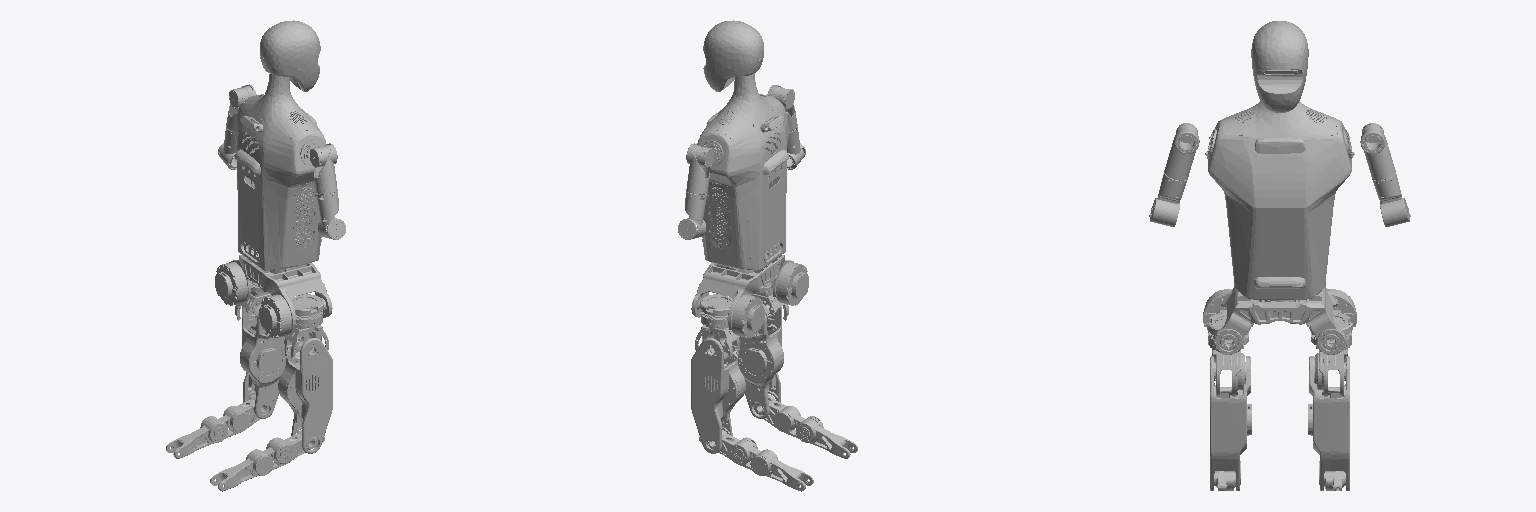
robot.urdf — humanoid:
<?xml version="1.0" encoding="utf-8"?>
<robot name="humanoid">
  <mujoco>
        <compiler 
        meshdir="../meshes/" 
        balanceinertia="true" 
        discardvisual="false" />
  </mujoco>
  <link name="pelvis">
    <inertial>
      <origin xyz="-0.047395 0.00 -0.046657" rpy="0 0 0"/>
      <mass value="5.587228"/>
      <inertia ixx="0.080339" ixy="-0.0000080" ixz="0.006666" iyy="0.029082" iyz="-0.000004" izz="0.091570"/>
    </inertial>
    <visual>
      <origin xyz="0 0 0.013" rpy="0 0 0"/>
      <geometry>
        <mesh filename="../meshes/pelvis.STL"/>
      </geometry>
      <material name="">
        <color rgba="0.752941176470588 0.752941176470588 0.752941176470588 1"/>
      </material>
    </visual>
    <collision>
      <origin xyz="0 0 0.01" rpy="0 0 0"/>
      <geometry>
        <cylinder radius="0.08" length="0.05"/></geometry>
    </collision>
  </link>
  <link name="hip_roll_l_link">
    <inertial>
      <origin xyz="-0.00048 0.00336 -0.00372" rpy="0 0 0"/>
      <mass value="1.12809"/>
      <inertia ixx="0.0058" ixy="0.00000" ixz="0.00000" iyy="0.0093" iyz="-0.00011" izz="0.0108"/>
    </inertial>
    <visual>
      <origin xyz="0 0 0" rpy="0 0 0"/>
      <geometry>
        <mesh filename="../meshes/hip_roll_l_link.STL"/>
      </geometry>
      <material name="">
        <color rgba="0.752941176470588 0.752941176470588 0.752941176470588 1"/>
      </material>
    </visual>
    <collision>
      <origin xyz="-0.087 0 0.004" rpy="0 1.57 0"/>
      <geometry>
        <cylinder radius="0.06" length="0.03"/></geometry>
    </collision>
  </link>
  <joint name="hip_roll_l_joint" type="revolute">
    <origin xyz="0 0.13 -0.0659230484541305" rpy="0 0 0"/>
    <parent link="pelvis"/>
    <child link="hip_roll_l_link"/>
    <axis xyz="1 0 0"/>
    <limit effort="150" lower="-0.97" upper="0.97" velocity="12"/>
  </joint>
  <link name="hip_yaw_l_link">
    <inertial>
      <origin xyz="0.00104 0.00351 0.00968" rpy="0 0 0"/>
      <mass value="1.91605"/>
      <inertia ixx="0.00237" ixy="-0.00005" ixz="-0.00001" iyy="0.00271" iyz="-0.00005" izz="0.00152"/>
    </inertial>
    <visual>
      <origin xyz="0 0 0" rpy="0 0 0"/>
      <geometry>
        <mesh filename="../meshes/hip_yaw_l_link.STL"/>
      </geometry>
      <material name="">
        <color rgba="0.752941176470588 0.752941176470588 0.752941176470588 1"/>
      </material>
    </visual>
    <collision>
      <origin xyz="0 0 0.13" rpy="0 0 0"/>
      <geometry>
        <cylinder radius="0.05" length="0.02"/></geometry>
    </collision>
  </link>
  <joint name="hip_yaw_l_joint" type="revolute">
    <origin xyz="0 0 -0.116" rpy="0 0 0"/>
    <parent link="hip_roll_l_link"/>
    <child link="hip_yaw_l_link"/>
    <axis xyz="0 0 1"/>
    <limit effort="90" lower="-1.0472" upper="1.0472" velocity="14"/>
  </joint>
  <link name="hip_pitch_l_link">
    <inertial>
      <origin xyz="0.00823 -0.00853 -0.13551" rpy="0 0 0"/>
      <mass value="3.37311"/>
      <inertia ixx="0.02261" ixy="0.00036" ixz="-0.00020" iyy="0.02274" iyz="-0.00132" izz="0.00637"/>
    </inertial>
    <visual>
      <origin xyz="0 0 0" rpy="0 0 0"/>
      <geometry>
        <mesh filename="../meshes/hip_pitch_l_link.STL"/>
      </geometry>
      <material name="">
        <color rgba="0.752941176470588 0.752941176470588 0.752941176470588 1"/>
      </material>
    </visual>
    <collision>
      <origin xyz="0 0 -0.10" rpy="0 0 0"/>
      <geometry>
        <cylinder radius="0.057" length="0.3"/></geometry>
    </collision>
  </link>
  <joint name="hip_pitch_l_joint" type="revolute">
    <origin xyz="0 0 0" rpy="0 0 0"/>
    <parent link="hip_yaw_l_link"/>
    <child link="hip_pitch_l_link"/>
    <axis xyz="0 1 0"/>
    <limit effort="150" lower="-1.57" upper="0.5236" velocity="12"/>
  </joint>
  <link name="knee_pitch_l_link">
    <inertial>
      <origin xyz="0.00228 0.00293 -0.12066" rpy="0 0 0"/>
      <mass value="2.28832"/>
      <inertia ixx="0.02033" ixy="0.00004" ixz="0.00049" iyy="0.02013" iyz="0.00089" izz="0.00090"/>
    </inertial>
    <visual>
      <origin xyz="0 0 0" rpy="0 0 0"/>
      <geometry>
        <mesh filename="../meshes/knee_pitch_l_link.STL"/>
      </geometry>
      <material name="">
        <color rgba="0.752941176470588 0.752941176470588 0.752941176470588 1"/>
      </material>
    </visual>
    <collision>
      <origin xyz="0 0 -0.14" rpy="0 0 0"/>
      <geometry>
        <cylinder radius="0.03" length="0.2"/></geometry>
    </collision>
  </link>
  <joint name="knee_pitch_l_joint" type="revolute">
    <origin xyz="0 0 -0.3" rpy="0 0 0"/>
    <parent link="hip_pitch_l_link"/>
    <child link="knee_pitch_l_link"/>
    <axis xyz="0 1 0"/>
    <limit effort="150" lower="0.1745" upper="2.443" velocity="12"/>
  </joint>
  <link name="ankle_pitch_l_link">
    <inertial>
      <origin xyz="0.00027 0.00 0.00" rpy="0 0 0"/>
      <mass value="0.15163"/>
      <inertia ixx="0.003" ixy="0.00000" ixz="0.00000" iyy="0.003" iyz="0.00000" izz="0.006"/>
    </inertial>
    <visual>
      <origin xyz="0 0 0" rpy="0 0 0"/>
      <geometry>
        <mesh filename="../meshes/ankle_pitch_l_link.STL"/>
      </geometry>
      <material name="">
        <color rgba="0.752941176470588 0.752941176470588 0.752941176470588 1"/>
      </material>
    </visual>
    <collision>
      <origin xyz="0 0 0" rpy="0 1.57 0"/>
      <geometry>
        <cylinder radius="0.009" length="0.02"/></geometry>
    </collision>
  </link>
  <joint name="ankle_pitch_l_joint" type="revolute">
    <origin xyz="0 0 -0.3" rpy="0 0 0"/>
    <parent link="knee_pitch_l_link"/>
    <child link="ankle_pitch_l_link"/>
    <axis xyz="0 1 0"/>
    <limit effort="60" lower="-1.22" upper="0.5236" velocity="7.8"/>
  </joint>
  <link name="ankle_roll_l_link">
    <inertial>
      <origin xyz="0.00499834596807007 3.85656999529749E-07 -0.0269363007684662" rpy="0 0 0"/>
      <mass value="0.658333536719065"/>
      <inertia

        ixx="0.000513570989980863"

        ixy="-4.87505487499137E-09"

        ixz="0.000203238044973804"
        iyy="0.00217612928759338"

        iyz="7.25924990022402E-10"
        izz="0.00236715733639348" />
    </inertial>
    <visual>
      <origin xyz="0 0 0" rpy="0 0 0"/>
      <geometry>
        <mesh filename="../meshes/ankle_roll_l_link.STL"/>
      </geometry>
      <material name="">
        <color rgba="0.752941176470588 0.752941176470588 0.752941176470588 1"/>
      </material>
    </visual>
    <collision>
      <origin xyz="0 0 0" rpy="0 0 0"/>
      <geometry>
      <mesh
        filename="../meshes/ankle_roll_l_link.STL" />
      </geometry>
    </collision>
  </link>
  <joint name="ankle_roll_l_joint" type="revolute">
    <origin xyz="0 0 0" rpy="0 0 0"/>
    <parent link="ankle_pitch_l_link"/>
    <child link="ankle_roll_l_link"/>
    <axis xyz="1 0 0"/>
    <limit effort="30" lower="-0.4363" upper="0.4363" velocity="7.8"/>
  </joint>
  <link name="hip_roll_r_link">
    <inertial>
      <origin xyz="-0.00048 -0.00336 -0.00372" rpy="0 0 0"/>
      <mass value="1.12809"/>
      <inertia ixx="0.0058" ixy="0.00000" ixz="0.00000" iyy="0.0093" iyz="0.00011" izz="0.0108"/>
    </inertial>
    <visual>
      <origin xyz="0 0 0" rpy="0 0 0"/>
      <geometry>
        <mesh filename="../meshes/hip_roll_r_link.STL"/>
      </geometry>
      <material name="">
        <color rgba="0.752941176470588 0.752941176470588 0.752941176470588 1"/>
      </material>
    </visual>
    <collision>
      <origin xyz="-0.087 0 0.004" rpy="0 1.57 0"/>
      <geometry>
        <cylinder radius="0.06" length="0.03"/></geometry>
    </collision>
  </link>
  <joint name="hip_roll_r_joint" type="revolute">
    <origin xyz="0 -0.13 -0.0659230484541306" rpy="0 0 0"/>
    <parent link="pelvis"/>
    <child link="hip_roll_r_link"/>
    <axis xyz="1 0 0"/>
    <limit effort="150" lower="-0.97" upper="0.97" velocity="12"/>
  </joint>
  <link name="hip_yaw_r_link">
    <inertial>
      <origin xyz="0.00104 -0.00351 0.00968" rpy="0 0 0"/>
      <mass value="1.91605"/>
      <inertia ixx="0.00237" ixy="0.00005" ixz="-0.00001" iyy="0.00271" iyz="0.00005" izz="0.00152"/>
    </inertial>
    <visual>
      <origin xyz="0 0 0" rpy="0 0 0"/>
      <geometry>
        <mesh filename="../meshes/hip_yaw_r_link.STL"/>
      </geometry>
      <material name="">
        <color rgba="0.752941176470588 0.752941176470588 0.752941176470588 1"/>
      </material>
    </visual>
    <collision>
      <origin xyz="0 0 0.13" rpy="0 0 0"/>
      <geometry>
        <cylinder radius="0.05" length="0.02"/></geometry>
    </collision>
  </link>
  <joint name="hip_yaw_r_joint" type="revolute">
    <origin xyz="0 0 -0.116" rpy="0 0 0"/>
    <parent link="hip_roll_r_link"/>
    <child link="hip_yaw_r_link"/>
    <axis xyz="0 0 1"/>
    <limit effort="90" lower="-1.0472" upper="1.0472" velocity="14"/>
  </joint>
  <link name="hip_pitch_r_link">
    <inertial>
      <origin xyz="0.00823 0.00853 -0.13551" rpy="0 0 0"/>
      <mass value="3.37311"/>
      <inertia ixx="0.02261" ixy="-0.00036" ixz="-0.00020" iyy="0.02274" iyz="0.00132" izz="0.00637"/>
    </inertial>
    <visual>
      <origin xyz="0 0 0" rpy="0 0 0"/>
      <geometry>
        <mesh filename="../meshes/hip_pitch_r_link.STL"/>
      </geometry>
      <material name="">
        <color rgba="0.752941176470588 0.752941176470588 0.752941176470588 1"/>
      </material>
    </visual>
    <collision>
      <origin xyz="0 0 -0.10" rpy="0 0 0"/>
      <geometry>
        <cylinder radius="0.057" length="0.3"/></geometry>
    </collision>
  </link>
  <joint name="hip_pitch_r_joint" type="revolute">
    <origin xyz="0 0 0" rpy="0 0 0"/>
    <parent link="hip_yaw_r_link"/>
    <child link="hip_pitch_r_link"/>
    <axis xyz="0 1 0"/>
    <limit effort="150" lower="-1.57" upper="0.5236" velocity="12"/>
  </joint>
  <link name="knee_pitch_r_link">
    <inertial>
      <origin xyz="0.00228 -0.00293 -0.12066" rpy="0 0 0"/>
      <mass value="2.28832"/>
      <inertia ixx="0.02033" ixy="-0.00004" ixz="0.00049" iyy="0.02013" iyz="-0.00089" izz="0.00090"/>
    </inertial>
    <visual>
      <origin xyz="0 0 0" rpy="0 0 0"/>
      <geometry>
        <mesh filename="../meshes/knee_pitch_r_link.STL"/>
      </geometry>
      <material name="">
        <color rgba="0.752941176470588 0.752941176470588 0.752941176470588 1"/>
      </material>
    </visual>
    <collision>
      <origin xyz="0 0 -0.14" rpy="0 0 0"/>
      <geometry>
        <cylinder radius="0.03" length="0.2"/></geometry>
    </collision>
  </link>
  <joint name="knee_pitch_r_joint" type="revolute">
    <origin xyz="0 0 -0.3" rpy="0 0 0"/>
    <parent link="hip_pitch_r_link"/>
    <child link="knee_pitch_r_link"/>
    <axis xyz="0 1 0"/>
    <limit effort="150" lower="0.1745" upper="2.443" velocity="12"/>
  </joint>
  <link name="ankle_pitch_r_link">
    <inertial>
      <origin xyz="0.00027 0.00 0.00" rpy="0 0 0"/>
      <mass value="0.15163"/>
      <inertia ixx="0.003" ixy="0.00000" ixz="0.00000" iyy="0.003" iyz="0.00000" izz="0.006"/>
    </inertial>
    <visual>
      <origin xyz="0 0 0" rpy="0 0 0"/>
      <geometry>
        <mesh filename="../meshes/ankle_pitch_r_link.STL"/>
      </geometry>
      <material name="">
        <color rgba="0.752941176470588 0.752941176470588 0.752941176470588 1"/>
      </material>
    </visual>
    <collision>
      <origin xyz="0 0 0" rpy="0 1.57 0"/>
      <geometry>
        <cylinder radius="0.009" length="0.02"/></geometry>
    </collision>
  </link>
  <joint name="ankle_pitch_r_joint" type="revolute">
    <origin xyz="0 0 -0.3" rpy="0 0 0"/>
    <parent link="knee_pitch_r_link"/>
    <child link="ankle_pitch_r_link"/>
    <axis xyz="0 1 0"/>
    <limit effort="60" lower="-1.22" upper="0.5236" velocity="7.8"/>
  </joint>
  <link name="ankle_roll_r_link">
    <inertial>
      <origin xyz="0.00499834596807082 3.85656999640771E-07 -0.0269363007684669" rpy="0 0 0"/>
      <mass value="0.658333536719064"/>
      <inertia ixx="0.000513570989980871" ixy="-4.8750548686116E-09" ixz="0.000203238044973807" iyy="0.00217612928759339" iyz="7.25924989997628E-10" izz="0.00236715733639349"/>
    </inertial>
    <visual>
      <origin xyz="0 0 0" rpy="0 0 0"/>
      <geometry>
        <mesh filename="../meshes/ankle_roll_r_link.STL"/>
      </geometry>
      <material name="">
        <color rgba="0.752941176470588 0.752941176470588 0.752941176470588 1"/>
      </material>
    </visual>
    <collision>
      <origin xyz="0 0 0" rpy="0 0 0"/>
      <geometry>
      <mesh
        filename="../meshes/ankle_roll_r_link.STL" />
      </geometry>
    </collision>
  </link>
  <joint name="ankle_roll_r_joint" type="revolute">
    <origin xyz="0 0 0" rpy="0 0 0"/>
    <parent link="ankle_pitch_r_link"/>
    <child link="ankle_roll_r_link"/>
    <axis xyz="1 0 0"/>
    <limit effort="30" lower="-0.4363" upper="0.4363" velocity="7.8"/>
  </joint>
  <link name="waist_link">
    <inertial>
      <origin xyz="-0.005467 -0.000016 0.302017" rpy="0 0 0"/>
      <mass value="13.8"/>
      <inertia ixx="0.527626" ixy="0.000095" ixz="-0.001701" iyy="0.471407" iyz="-0.000322" izz="0.111941"/>
    </inertial>
    <visual>
      <origin xyz="0 0 0" rpy="0 0 0"/>
      <geometry>
        <mesh filename="../meshes/waist_link.STL"/>
      </geometry>
      <material name="">
        <color rgba="0.752941176470588 0.752941176470588 0.752941176470588 1"/>
      </material>
    </visual>
    <collision>
      <origin xyz="0 0 0.3" rpy="0 0 0"/>
      <geometry>
        <cylinder radius="0.15" length="0.4"/></geometry>
    </collision>
  </link>
  <joint name="waist_joint" type="revolute">
    <origin xyz="0 0 0.0192" rpy="0 0 0"/>
    <parent link="pelvis"/>
    <child link="waist_link"/>
    <axis xyz="0 0 1"/>
    <limit effort="1000" lower="-3.14" upper="3.14" velocity="100"/>
  </joint>
  <link name="shoulder_pitch_l_link">
    <inertial>
      <origin xyz="0.000988 0.030202 0.000417" rpy="0 0 0"/>
      <mass value="0.163757"/>
      <inertia ixx="0.000156" ixy="0.000005" ixz="0.000000" iyy="0.000183" iyz="0.000000" izz="0.000224"/>
    </inertial>
    <visual>
      <origin xyz="0 0 0" rpy="0 0 0"/>
      <geometry>
        <mesh filename="../meshes/shoulder_pitch_l_link.STL"/>
      </geometry>
      <material name="">
        <color rgba="0.752941176470588 0.752941176470588 0.752941176470588 1"/>
      </material>
    </visual>
    <collision>
      <origin xyz="0 -0.04 0" rpy="1.57 0 0"/>
      <geometry>
        <cylinder radius="0.03" length="0.08"/></geometry>
    </collision>
  </link>
  <joint name="shoulder_pitch_l_joint" type="revolute">
    <origin xyz="0 0.17581 0.43652" rpy="0.2618 0 0"/>
    <parent link="waist_link"/>
    <child link="shoulder_pitch_l_link"/>
    <axis xyz="0 1 0"/>
    <limit effort="36" lower="-3.14" upper="0.97" velocity="7.8"/>
  </joint>
  <link name="shoulder_roll_l_link">
    <inertial>
      <origin xyz="0.004522 -0.000011 -0.042682" rpy="0 0 0"/>
      <mass value="0.933844"/>
      <inertia ixx="0.001705" ixy="0.00000" ixz="0.000170" iyy="0.00172" iyz="0.000001" izz="0.000234"/>
    </inertial>
    <visual>
      <origin xyz="0 0 0" rpy="0 0 0"/>
      <geometry>
        <mesh filename="../meshes/shoulder_roll_l_link.STL"/>
      </geometry>
      <material name="">
        <color rgba="0.752941176470588 0.752941176470588 0.752941176470588 1"/>
      </material>
    </visual>
    <collision>
      <origin xyz="0 0 -0.04" rpy="0 0 0"/>
      <geometry>
        <cylinder radius="0.03" length="0.10"/></geometry>
    </collision>
  </link>
  <joint name="shoulder_roll_l_joint" type="revolute">
    <origin xyz="-0.0025 0.062 0" rpy="0 0 0"/>
    <parent link="shoulder_pitch_l_link"/>
    <child link="shoulder_roll_l_link"/>
    <axis xyz="1 0 0"/>
    <limit effort="36" lower="-0.08" upper="3.49" velocity="7.8"/>
  </joint>
  <link name="shoulder_yaw_l_link">
    <inertial>
      <origin xyz="-0.000044 -0.002833 -0.092643" rpy="0 0 0"/>
      <mass value="0.610091"/>
      <inertia ixx="0.000943" ixy="0.000001" ixz="0.000001" iyy="0.000918" iyz="0.000030" izz="0.000220"/>
    </inertial>
    <visual>
      <origin xyz="0 0 0" rpy="0 0 0"/>
      <geometry>
        <mesh filename="../meshes/shoulder_yaw_l_link.STL"/>
      </geometry>
      <material name="">
        <color rgba="0.752941176470588 0.752941176470588 0.752941176470588 1"/>
      </material>
    </visual>
    <collision>
      <origin xyz="0 0 -0.06" rpy="0 0 0"/>
      <geometry>
        <cylinder radius="0.03" length="0.07"/></geometry>
    </collision>
  </link>
  <joint name="shoulder_yaw_l_joint" type="revolute">
    <origin xyz="0 0 -0.107" rpy="0 0 0"/>
    <parent link="shoulder_roll_l_link"/>
    <child link="shoulder_yaw_l_link"/>
    <axis xyz="0 0 1"/>
    <limit effort="36" lower="-2.96" upper="2.96" velocity="7.8"/>
  </joint>
  <link name="elbow_l_link">
    <inertial>
      <origin xyz="-0.000267 -0.001013 -0.145930" rpy="0 0 0"/>
      <mass value="0.341159"/>
      <inertia ixx="0.005196" ixy="0.0" ixz="0.000004" iyy="0.005151" iyz="-0.000052" izz="0.000220"/>
    </inertial>
    <visual>
      <origin xyz="0 0 0" rpy="0 0 0"/>
      <geometry>
        <mesh filename="../meshes/elbow_l_link.STL"/>
      </geometry>
      <material name="">
        <color rgba="0.898039215686275 0.917647058823529 0.929411764705882 1"/>
      </material>
    </visual>
    <collision>
      <origin xyz="0 0 -0.15" rpy="0 0 0"/>
      <geometry>
        <cylinder radius="0.02" length="0.25"/></geometry>
    </collision>
  </link>
  <joint name="elbow_l_joint" type="revolute">
    <origin xyz="-0.0 0.0 -0.11" rpy="0 0 0"/>
    <parent link="shoulder_yaw_l_link"/>
    <child link="elbow_l_link"/>
    <axis xyz="0 1 0"/>
    <limit effort="36" lower="-2.1" upper="0.0" velocity="7.8"/>
  </joint>
  <link name="shoulder_pitch_r_link">
    <inertial>
      <origin xyz="0.000988 -0.030202 0.000417" rpy="0 0 0"/>
      <mass value="0.163757"/>
      <inertia ixx="0.000156" ixy="-0.000005" ixz="0.000000" iyy="0.000183" iyz="-0.000000" izz="0.000224"/>
    </inertial>
    <visual>
      <origin xyz="0 0 0" rpy="0 0 0"/>
      <geometry>
        <mesh filename="../meshes/shoulder_pitch_r_link.STL"/>
      </geometry>
      <material name="">
        <color rgba="0.752941176470588 0.752941176470588 0.752941176470588 1"/>
      </material>
    </visual>
    <collision>
      <origin xyz="0 0.04 0" rpy="1.57 0 0"/>
      <geometry>
        <cylinder radius="0.03" length="0.08"/></geometry>
    </collision>
  </link>
  <joint name="shoulder_pitch_r_joint" type="revolute">
    <origin xyz="0 -0.17577 0.43652" rpy="-0.2618 0 0"/>
    <parent link="waist_link"/>
    <child link="shoulder_pitch_r_link"/>
    <axis xyz="0 1 0"/>
    <limit effort="36" lower="-3.14" upper="0.97" velocity="7.8"/>
  </joint>
  <link name="shoulder_roll_r_link">
    <inertial>
      <origin xyz="0.004522 0.000011 -0.042682" rpy="0 0 0"/>
      <mass value="0.933844"/>
      <inertia ixx="0.001705" ixy="-0.00000" ixz="0.000170" iyy="0.00172" iyz="-0.000001" izz="0.000234"/>
    </inertial>
    <visual>
      <origin xyz="0 0 0" rpy="0 0 0"/>
      <geometry>
        <mesh filename="../meshes/shoulder_roll_r_link.STL"/>
      </geometry>
      <material name="">
        <color rgba="0.752941176470588 0.752941176470588 0.752941176470588 1"/>
      </material>
    </visual>
    <collision>
      <origin xyz="0 0 -0.04" rpy="0 0 0"/>
      <geometry>
        <cylinder radius="0.03" length="0.1"/></geometry>
    </collision>
  </link>
  <joint name="shoulder_roll_r_joint" type="revolute">
    <origin xyz="-0.0025 -0.062 0" rpy="0 0 0"/>
    <parent link="shoulder_pitch_r_link"/>
    <child link="shoulder_roll_r_link"/>
    <axis xyz="1 0 0"/>
    <limit effort="36" lower="-3.49" upper="0.08" velocity="7.8"/>
  </joint>
  <link name="shoulder_yaw_r_link">
    <inertial>
      <origin xyz="-0.000044 0.002833 -0.092643" rpy="0 0 0"/>
      <mass value="0.610091"/>
      <inertia ixx="0.000943" ixy="-0.000001" ixz="0.000001" iyy="0.000918" iyz="-0.000030" izz="0.000220"/>
    </inertial>
    <visual>
      <origin xyz="0 0 0" rpy="0 0 0"/>
      <geometry>
        <mesh filename="../meshes/shoulder_yaw_r_link.STL"/>
      </geometry>
      <material name="">
        <color rgba="0.752941176470588 0.752941176470588 0.752941176470588 1"/>
      </material>
    </visual>
    <collision>
      <origin xyz="0 0 -0.06" rpy="0 0 0"/>
      <geometry>
        <cylinder radius="0.03" length="0.07"/></geometry>
    </collision>
  </link>
  <joint name="shoulder_yaw_r_joint" type="revolute">
    <origin xyz="0 0 -0.107" rpy="0 0 0"/>
    <parent link="shoulder_roll_r_link"/>
    <child link="shoulder_yaw_r_link"/>
    <axis xyz="0 0 1"/>
    <limit effort="36" lower="-2.96" upper="2.96" velocity="7.8"/>
  </joint>
  <link name="elbow_r_link">
    <inertial>
      <origin xyz="-0.000267 0.001013 -0.145930" rpy="0 0 0"/>
      <mass value="0.341159"/>
      <inertia ixx="0.005196" ixy="0.0" ixz="0.000004" iyy="0.005151" iyz="0.000052" izz="0.000220"/>
    </inertial>
    <visual>
      <origin xyz="0 0 0" rpy="0 0 0"/>
      <geometry>
        <mesh filename="../meshes/elbow_r_link.STL"/>
      </geometry>
      <material name="">
        <color rgba="0.898039215686275 0.917647058823529 0.929411764705882 1"/>
      </material>
    </visual>
    <collision>
      <origin xyz="0 0 -0.15" rpy="0 0 0"/>
      <geometry>
        <cylinder radius="0.02" length="0.25"/></geometry>
    </collision>
  </link>
  <joint name="elbow_r_joint" type="revolute">
    <origin xyz="-0.0 -0.0 -0.11" rpy="0 0 0"/>
    <parent link="shoulder_yaw_r_link"/>
    <child link="elbow_r_link"/>
    <axis xyz="0 1 0"/>
    <limit effort="36" lower="-2.1" upper="0.0" velocity="7.8"/>
  </joint>
</robot>

--- Facts derived from the render (not from the file) ---
The picture shows the robot from 3 angles, left to right: view 1: azimuth 30°, elevation 25°; view 2: azimuth 150°, elevation 25°; view 3: azimuth 270°, elevation 25°; orthographic projection.
Robot: humanoid — 22 links, 21 joints (21 revolute); root link pelvis; default pose: joints at zero except 2 at the middle of their limits (knee_pitch_l_joint = 1.31, knee_pitch_r_joint = 1.31).
Visible links, largest first — view 1: waist_link, pelvis, hip_pitch_r_link, hip_pitch_l_link, knee_pitch_r_link, knee_pitch_l_link, shoulder_roll_r_link, shoulder_yaw_r_link, hip_roll_r_link, hip_yaw_r_link, shoulder_roll_l_link; view 2: waist_link, pelvis, hip_pitch_l_link, hip_pitch_r_link, knee_pitch_r_link, knee_pitch_l_link, shoulder_roll_l_link, shoulder_yaw_l_link, hip_roll_l_link, hip_yaw_l_link, shoulder_roll_r_link; view 3: waist_link, pelvis, hip_pitch_l_link, hip_pitch_r_link, shoulder_roll_l_link, shoulder_roll_r_link, shoulder_yaw_l_link, shoulder_yaw_r_link, hip_yaw_r_link, hip_yaw_l_link, hip_roll_r_link, hip_roll_l_link.
Link boxes in pixels (left/top/right/bottom): waist_link: left=234, top=20, right=325, bottom=270; pelvis: left=215, top=255, right=332, bottom=337; hip_pitch_r_link: left=278, top=338, right=332, bottom=453; hip_pitch_l_link: left=240, top=306, right=285, bottom=418; knee_pitch_r_link: left=210, top=430, right=324, bottom=491; knee_pitch_l_link: left=166, top=395, right=268, bottom=458; shoulder_roll_r_link: left=310, top=143, right=337, bottom=194; shoulder_yaw_r_link: left=317, top=191, right=345, bottom=239; hip_roll_r_link: left=291, top=294, right=326, bottom=328; hip_yaw_r_link: left=284, top=325, right=328, bottom=363; shoulder_roll_l_link: left=226, top=84, right=256, bottom=131; waist_link: left=697, top=20, right=789, bottom=270; pelvis: left=691, top=255, right=808, bottom=337; hip_pitch_l_link: left=691, top=338, right=745, bottom=453; hip_pitch_r_link: left=738, top=306, right=783, bottom=418; knee_pitch_r_link: left=754, top=395, right=857, bottom=458; knee_pitch_l_link: left=699, top=430, right=813, bottom=491; shoulder_roll_l_link: left=686, top=143, right=713, bottom=194; shoulder_yaw_l_link: left=678, top=191, right=706, bottom=239; hip_roll_l_link: left=697, top=294, right=732, bottom=328; hip_yaw_l_link: left=695, top=325, right=739, bottom=363; shoulder_roll_r_link: left=767, top=85, right=797, bottom=131; waist_link: left=1205, top=21, right=1354, bottom=301; pelvis: left=1203, top=286, right=1356, bottom=354; hip_pitch_l_link: left=1308, top=356, right=1349, bottom=490; hip_pitch_r_link: left=1210, top=356, right=1251, bottom=490; shoulder_roll_l_link: left=1360, top=123, right=1395, bottom=180; shoulder_roll_r_link: left=1164, top=123, right=1199, bottom=180; shoulder_yaw_l_link: left=1372, top=173, right=1410, bottom=226; shoulder_yaw_r_link: left=1149, top=173, right=1187, bottom=226; hip_yaw_r_link: left=1212, top=345, right=1245, bottom=396; hip_yaw_l_link: left=1315, top=345, right=1347, bottom=396; hip_roll_r_link: left=1207, top=310, right=1250, bottom=350; hip_roll_l_link: left=1309, top=310, right=1352, bottom=350.
Bounding box of the posed robot: 0.4276 × 0.6626 × 1.38 m (x, y, z).
14 mesh visuals loaded from 22 distinct referenced files (14 binary STL); not drawn: 8 (reference not matched to a file when rendering).